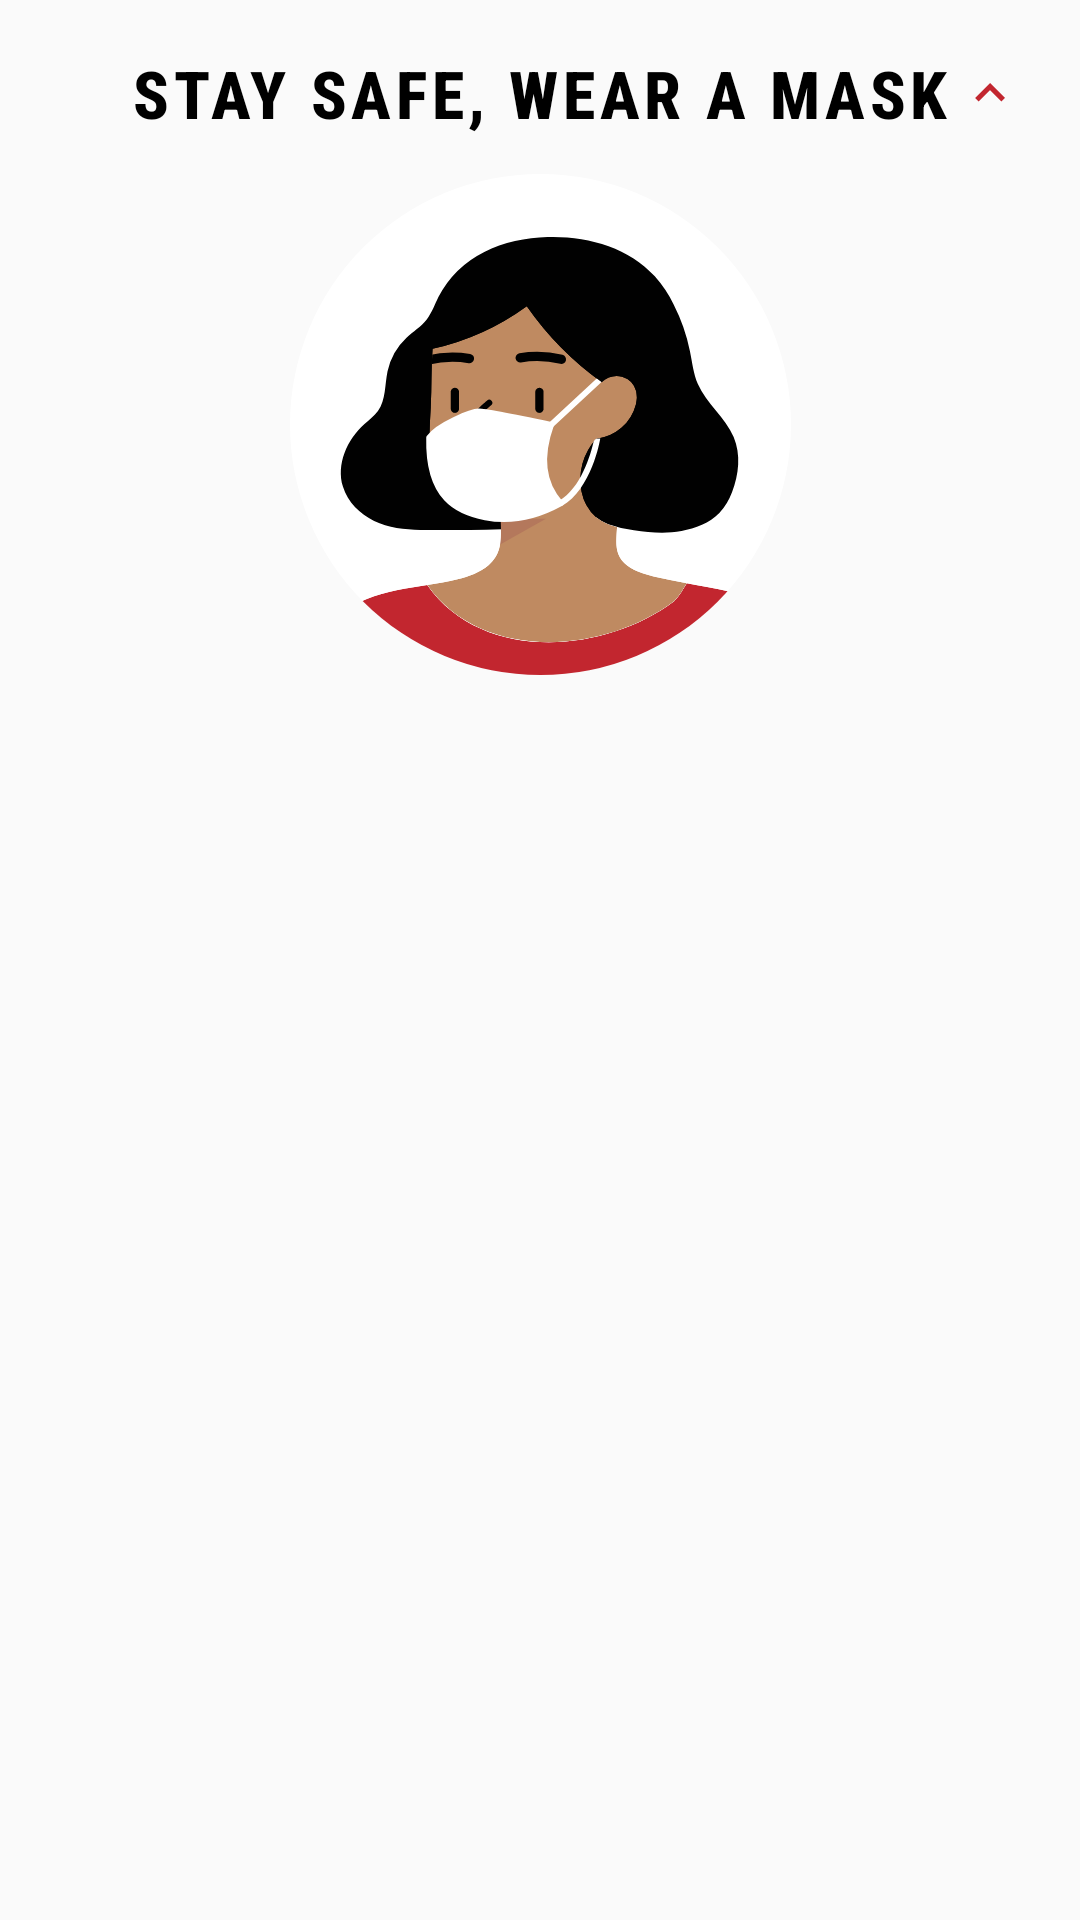

Named icons in this screenshot (1080×1920) and their bounding boxes, (x1, y1, x2, y2):
keyboard arrow up: (975, 83, 1005, 102)
